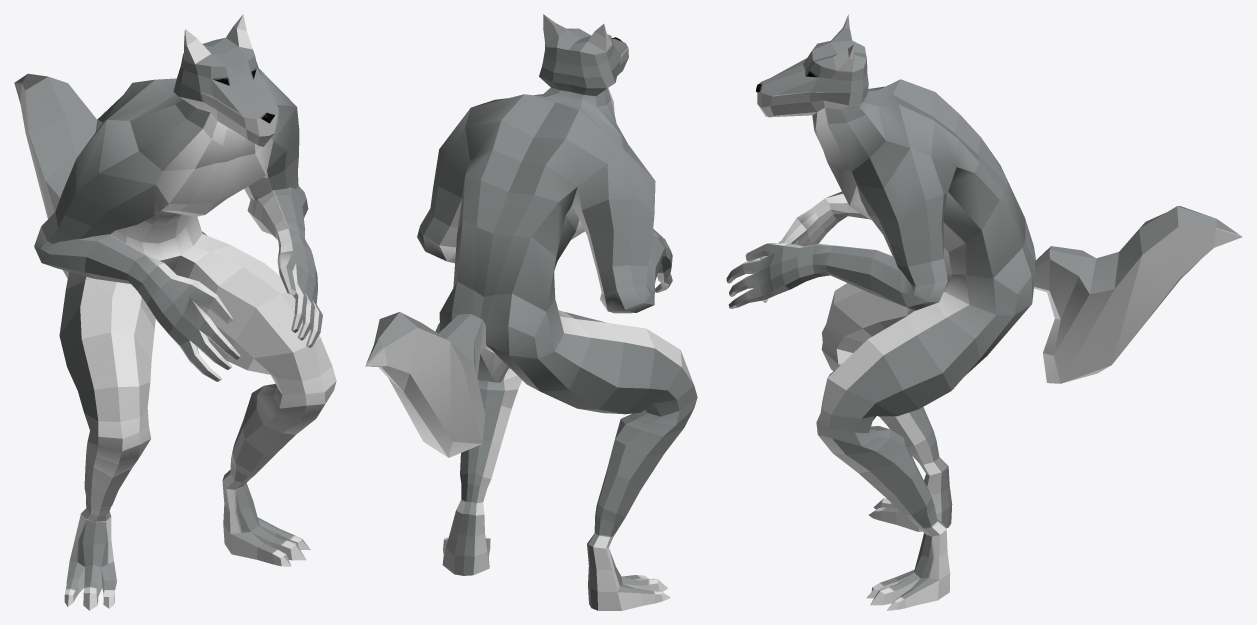
Rendered from WolfIdle_(135).obj.
3 views of the same model, side by side, from view 1: azimuth 30°, elevation 25°; view 2: azimuth 150°, elevation 25°; view 3: azimuth 270°, elevation 25° (orthographic). The views are drawn at different scales.
Visible parts, largest first — view 1: Box001; view 2: Box001; view 3: Box001.
Part boxes in pixels (x1,y1,x2,y2): Box001: (14, 14, 336, 610); Box001: (365, 14, 697, 610); Box001: (726, 14, 1242, 610).
Size of the model in its own units: 61.02 by 131 by 115.
